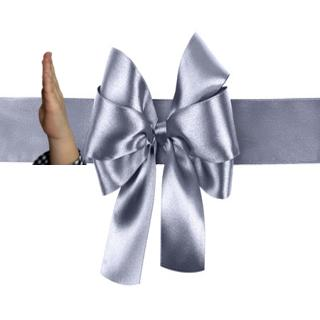RIGHT: (36, 49, 75, 142)
